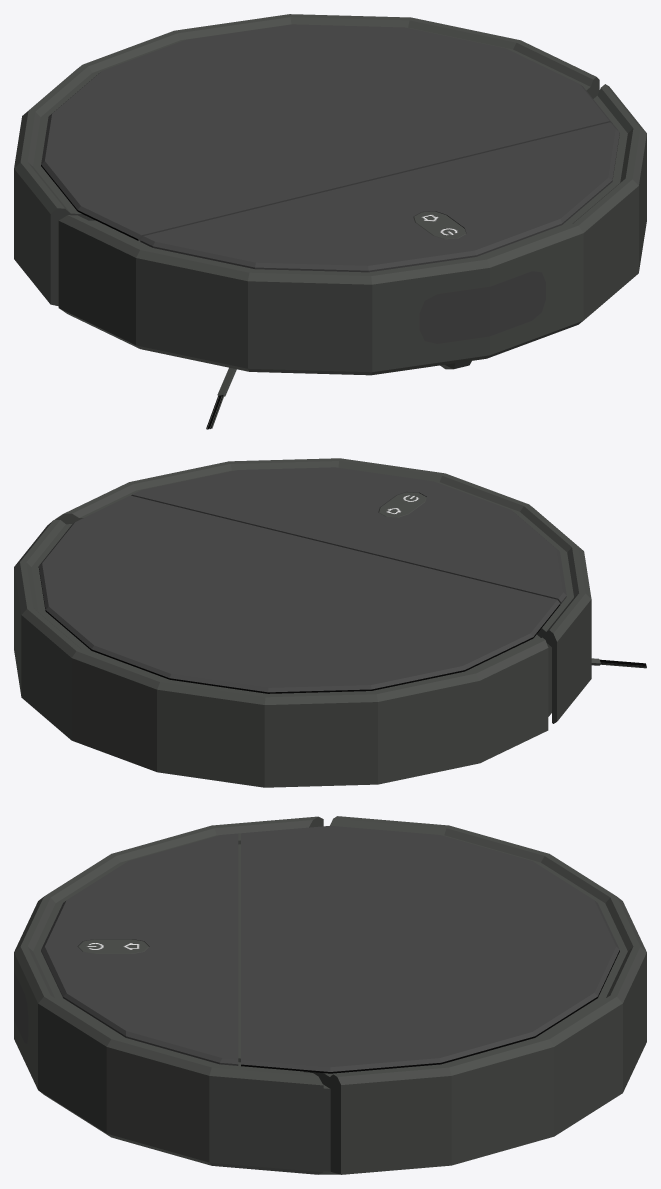
The picture shows the model from 3 angles, top to bottom: view 1: azimuth 30°, elevation 25°; view 2: azimuth 150°, elevation 25°; view 3: azimuth 270°, elevation 25°; orthographic projection. The views are drawn at different scales.
Visible parts, largest first — view 1: rv_001-cover-lid.baked, rv_001-front_bumper.baked, rv_001-cover.baked, rv_001-body.baked, rv_001-body-front_bumper-camera_window.baked, rv_001-buttons.baked; view 2: rv_001-cover-lid.baked, rv_001-body.baked, rv_001-cover.baked, rv_001-front_bumper.baked, rv_001-buttons.baked; view 3: rv_001-cover-lid.baked, rv_001-body.baked, rv_001-front_bumper.baked, rv_001-cover.baked, rv_001-buttons.baked, rv_001-body-front_bumper-camera_window.baked.
Part boxes in pixels (x1,y1,x2,y2): rv_001-cover-lid.baked: (41, 24, 612, 240); rv_001-front_bumper.baked: (58, 84, 646, 375); rv_001-cover.baked: (140, 122, 619, 272); rv_001-body.baked: (14, 14, 599, 306); rv_001-body-front_bumper-camera_window.baked: (419, 271, 545, 343); rv_001-buttons.baked: (413, 211, 466, 239); rv_001-cover-lid.baked: (38, 495, 560, 693); rv_001-body.baked: (14, 520, 551, 787); rv_001-cover.baked: (131, 467, 566, 603); rv_001-front_bumper.baked: (54, 458, 591, 723); rv_001-buttons.baked: (378, 492, 426, 517); rv_001-cover-lid.baked: (241, 825, 619, 1073); rv_001-body.baked: (238, 816, 646, 1174); rv_001-front_bumper.baked: (14, 816, 323, 1174); rv_001-cover.baked: (41, 833, 238, 1065); rv_001-buttons.baked: (78, 939, 148, 953); rv_001-body-front_bumper-camera_window.baked: (14, 971, 28, 1043).
Size of the model in its own units: 0.3485 by 0.08 by 0.35.
1 material, 1 textured.
